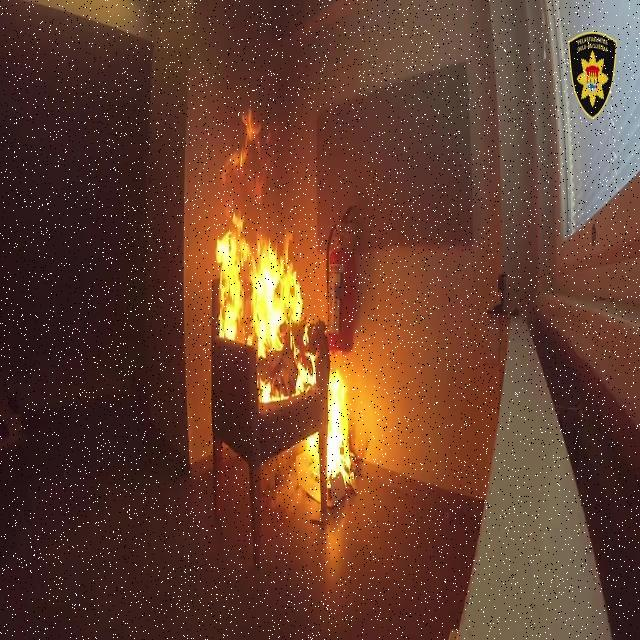fire: (212, 108, 310, 392), (328, 372, 368, 502)
